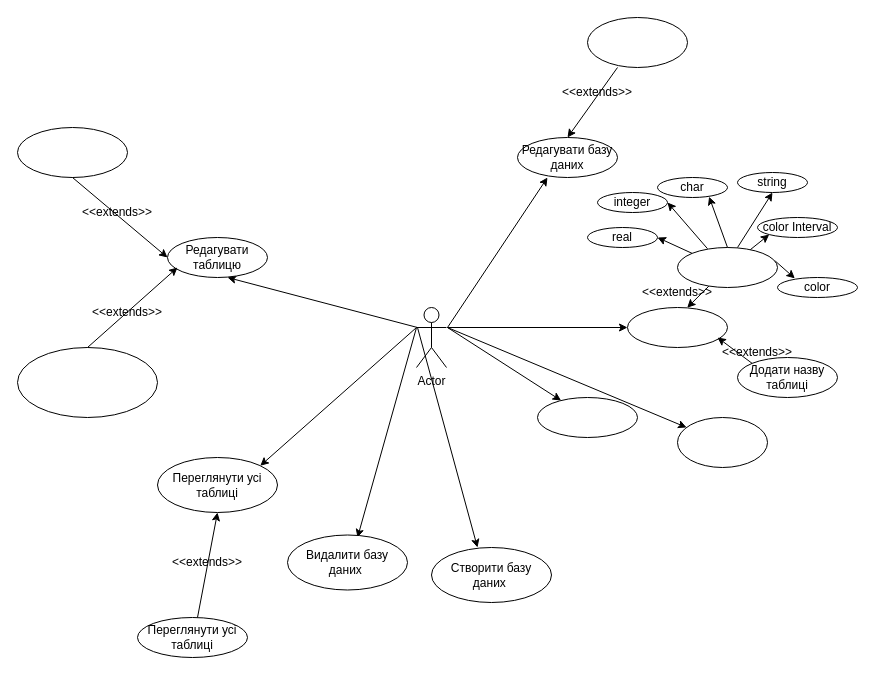
Image size: 875x675. Some labels were removed from this diagram. The centre of each missing label's shape, as x and y in pixels:
"Видалити рядки таблиці" belongs at pixel 72 152.
"Визначити тип колонок" belongs at pixel 727 267.
"Зберегти базу даних на диск" belongs at pixel 587 417.
"Зчитати базу даних з диску" belongs at pixel 722 442.
"Редагувати значення в таблиці" belongs at pixel 637 42.
"Створити таблицю" belongs at pixel 677 327.
"Усунути повторювані рядки у таблиці" belongs at pixel 87 382.
